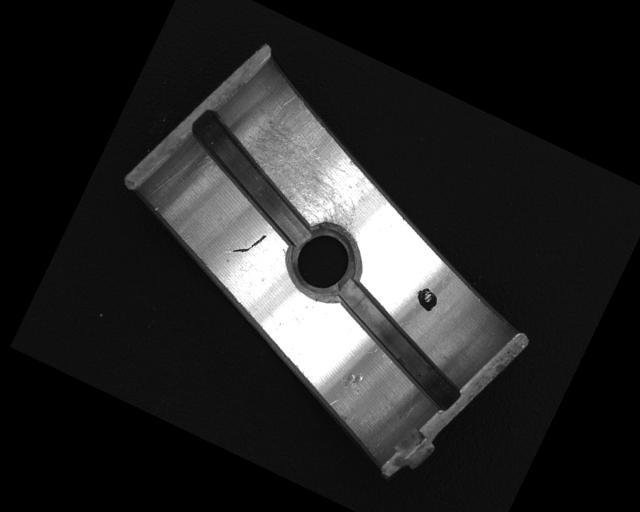blot: (411, 284, 442, 314)
bruise: (337, 366, 369, 398)
gap: (164, 106, 341, 251), (315, 277, 484, 411)
hole: (277, 213, 371, 308)
nick: (230, 222, 268, 262)
scratch: (222, 83, 397, 246)
